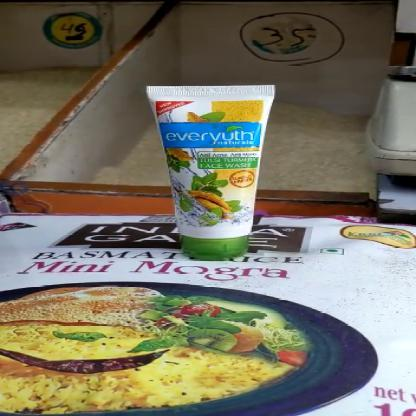EY AAAM TULSI TURMERIC FACEWASH50G: (162, 83, 264, 259)
